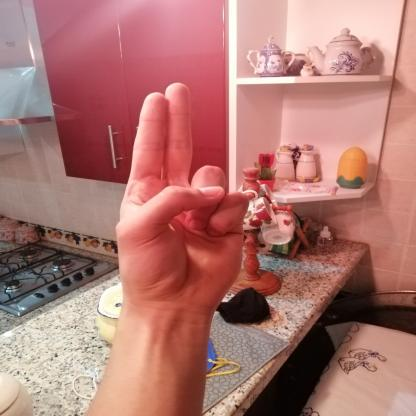TA: (104, 70, 260, 322)
